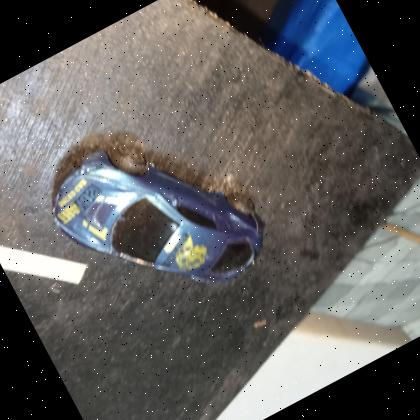Car: (51, 147, 265, 284)
